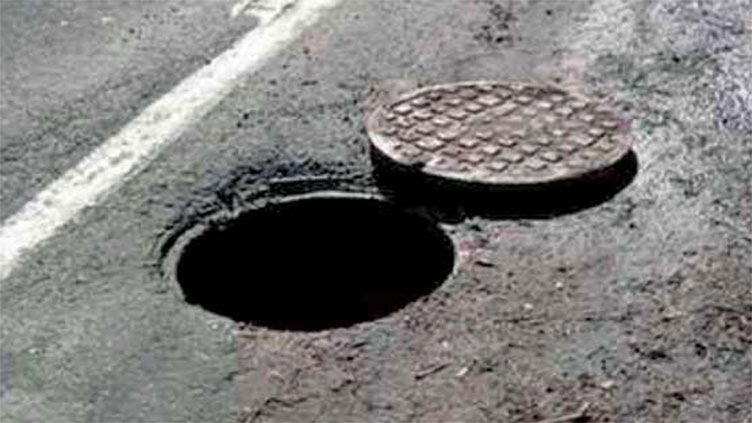open_manhole: (165, 169, 463, 338)
